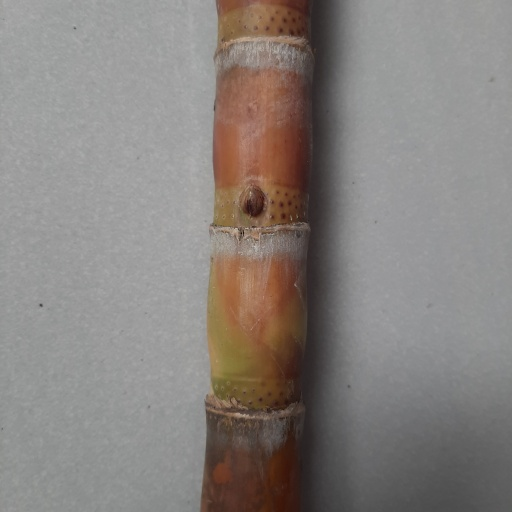Bud: (239, 185, 264, 218)
